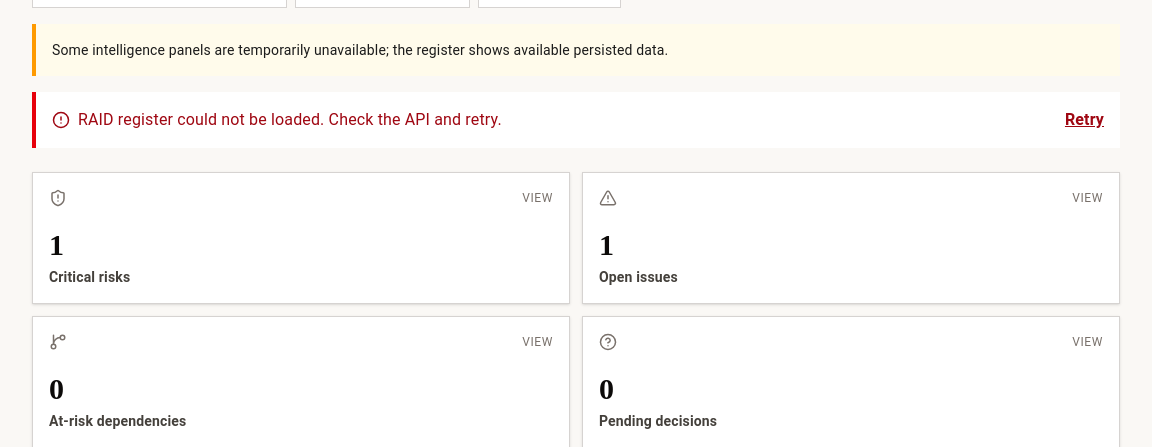
Test case: RAID intelligence › shows partial-data state and retries a failed persisted register
Expected: the message "RAID register could not be loaded. Check the API and retry. Retry" is shown, [32, 92, 1120, 148]
Expected: the text "Some intelligence panels" is shown, [52, 42, 668, 58]
Step 1. Click the button "Retry" → coordinates (1084, 120), box [1065, 108, 1104, 132]
(page scrolled)
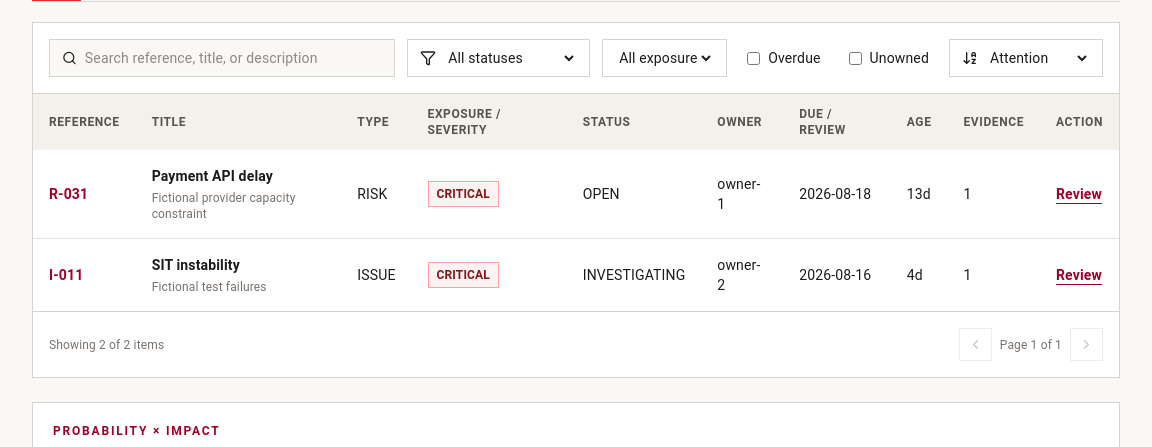
Expected: the column heading "R-031" is shown, [33, 150, 136, 238]
